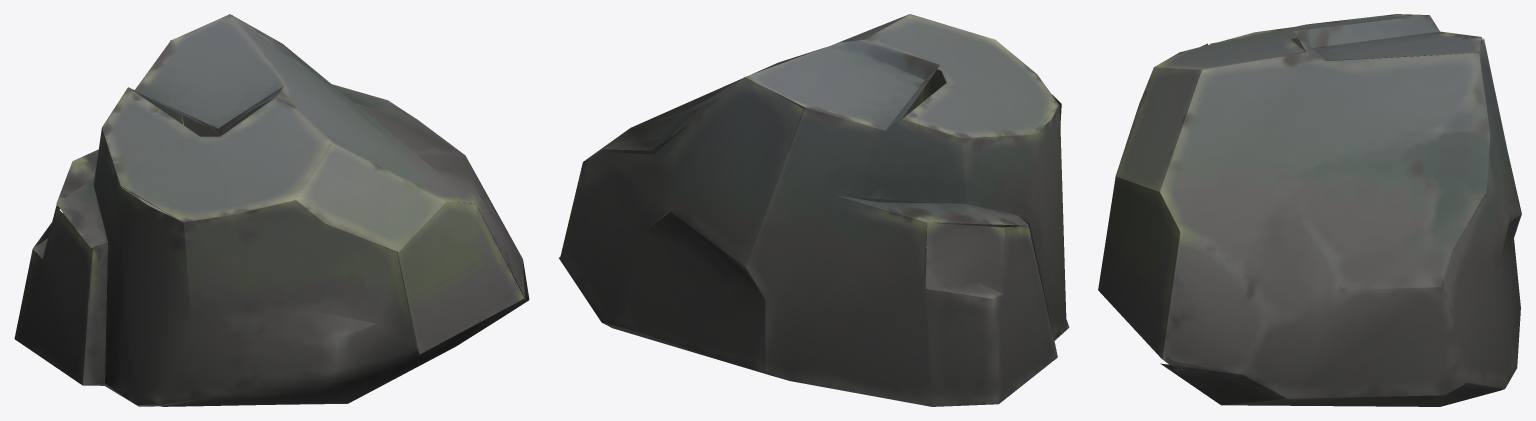
File: rock_cluster_lod1.gltf
3 views of the same model, side by side, from view 1: azimuth 30°, elevation 25°; view 2: azimuth 150°, elevation 25°; view 3: azimuth 270°, elevation 25° (orthographic). The views are drawn at different scales.
Parts seen in each view (by area): view 1: rock_cluster.001; view 2: rock_cluster.001; view 3: rock_cluster.001.
Part boxes in pixels (x1,y1,x2,y2): rock_cluster.001: (14, 14, 529, 406); rock_cluster.001: (559, 14, 1069, 406); rock_cluster.001: (1098, 14, 1521, 406).
Bounding box in the file's own units: 1.97 × 1.22 × 1.62.
1 material, 1 textured.
